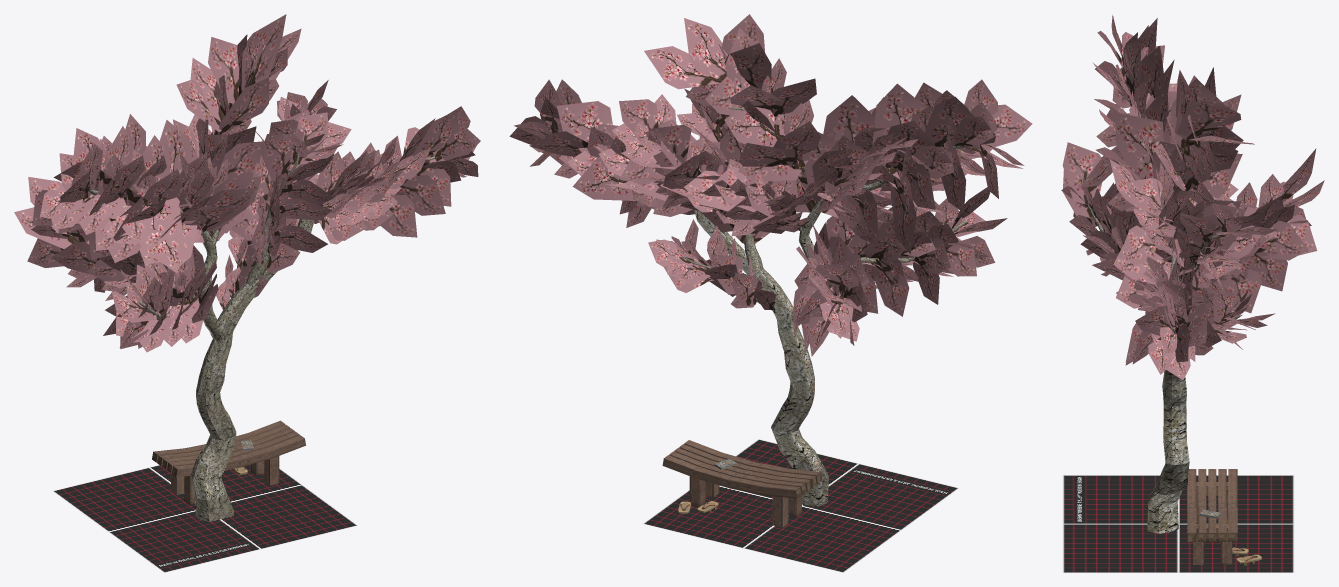
File: Prop_Tree.fbx
3 views of the same model, side by side, from view 1: azimuth 30°, elevation 25°; view 2: azimuth 150°, elevation 25°; view 3: azimuth 270°, elevation 25° (orthographic). The views are drawn at different scales.
Visible parts, largest first — view 1: floor_grid, Loft002, Box002, Plane525, Plane531, Plane207, Plane336, Plane522, Plane402, Plane542, Plane226, Plane115 (+29 smaller); view 2: floor_grid, Loft002, Box002, Plane522, Plane527, Plane090, Plane202, Plane209, Plane534, Plane115, Plane073, Plane525 (+28 smaller); view 3: floor_grid, Loft002, Box002, Plane348, Plane522, Plane022, Plane457, Plane401, Plane456, Plane395, Plane090, Plane469 (+42 smaller).
Part boxes in pixels (bbox=[...]): floor_grid: bbox=[52, 465, 357, 572]; Loft002: bbox=[88, 153, 440, 521]; Box002: bbox=[152, 420, 305, 504]; Plane525: bbox=[208, 37, 238, 103]; Plane531: bbox=[219, 77, 268, 133]; Plane207: bbox=[398, 175, 445, 215]; Plane336: bbox=[139, 207, 185, 272]; Plane522: bbox=[247, 14, 286, 86]; Plane402: bbox=[260, 134, 299, 181]; Plane542: bbox=[212, 141, 263, 179]; Plane226: bbox=[380, 194, 417, 237]; Plane115: bbox=[159, 120, 192, 212]; floor_grid: bbox=[643, 439, 958, 572]; Loft002: bbox=[545, 107, 966, 506]; Box002: bbox=[662, 440, 822, 527]; Plane522: bbox=[684, 18, 727, 80]; Plane527: bbox=[644, 46, 721, 89]; Plane090: bbox=[871, 83, 926, 168]; Plane202: bbox=[557, 101, 612, 157]; Plane209: bbox=[572, 157, 636, 200]; Plane534: bbox=[724, 106, 785, 156]; Plane115: bbox=[823, 95, 875, 143]; Plane073: bbox=[924, 96, 974, 146]; Plane525: bbox=[724, 43, 771, 89]; floor_grid: bbox=[1062, 475, 1294, 572]; Loft002: bbox=[1087, 167, 1242, 533]; Box002: bbox=[1187, 469, 1237, 564]; Plane348: bbox=[1115, 112, 1164, 180]; Plane522: bbox=[1177, 98, 1241, 137]; Plane022: bbox=[1062, 142, 1101, 205]; Plane457: bbox=[1260, 220, 1308, 260]; Plane401: bbox=[1119, 225, 1163, 265]; Plane456: bbox=[1251, 248, 1287, 291]; Plane395: bbox=[1126, 177, 1165, 220]; Plane090: bbox=[1140, 46, 1165, 98]; Plane469: bbox=[1229, 266, 1261, 313].
Bounding box in the file's own units: 482 × 457 × 228.
Materials: 5 (5 with a texture image).
